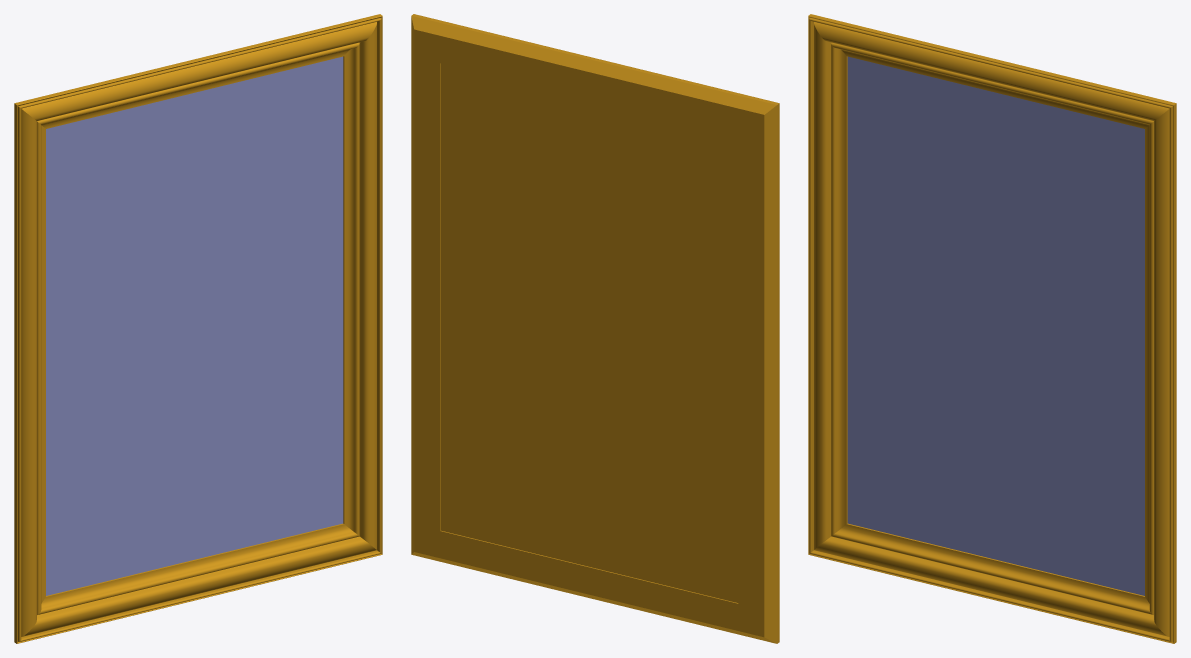
Rendered from Painting_V_3.fbx.
3 renders of one model, left to right at view 1: azimuth 30°, elevation 25°; view 2: azimuth 150°, elevation 25°; view 3: azimuth 330°, elevation 25°, orthographic.
Parts seen in each view (by area): view 1: SM_Painting_V_3; view 2: SM_Painting_V_3; view 3: SM_Painting_V_3.
Boxes of the visible parts, bbox=[...] form: SM_Painting_V_3: bbox=[14, 14, 382, 643]; SM_Painting_V_3: bbox=[411, 14, 779, 643]; SM_Painting_V_3: bbox=[808, 14, 1176, 643].
Bounding box in the file's own units: 264 × 372 × 12.02.
